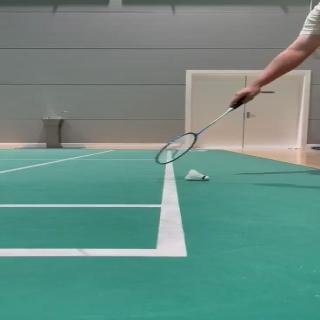Shuttle: (184, 169, 210, 181)
